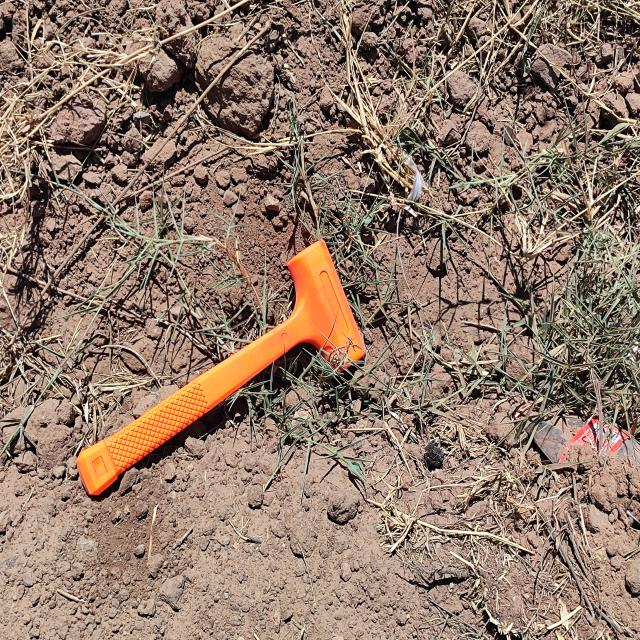Orange_hammer: (76, 237, 367, 497)
